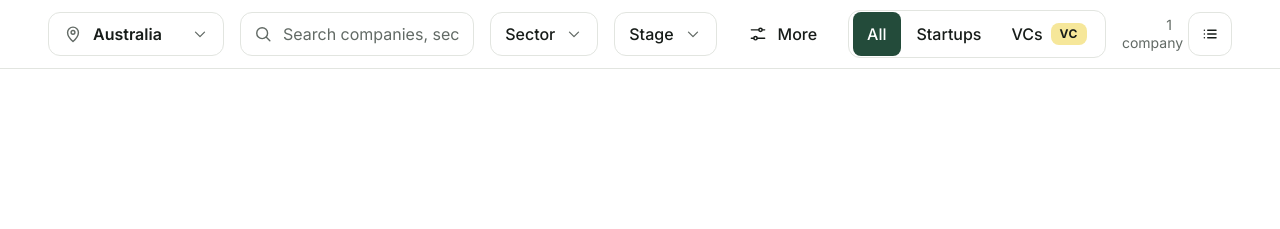
the stage menu on the map page › says what the stages are: as the directory lists them, never filled in from a guess
Click the button "Stage" at [665, 34], box [614,12,717,56]
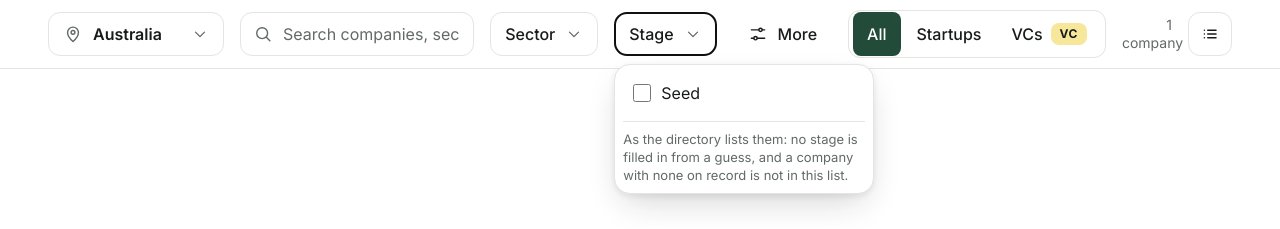
Result: the text "As the directory lists them" is shown at [623,131,858,183]
Click the button "Sector" at [544, 34], box [490,12,598,56]
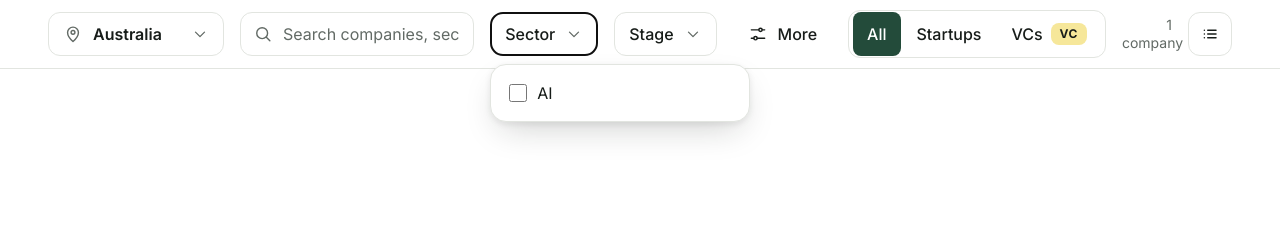
Result: the text "As the directory lists them" is gone
